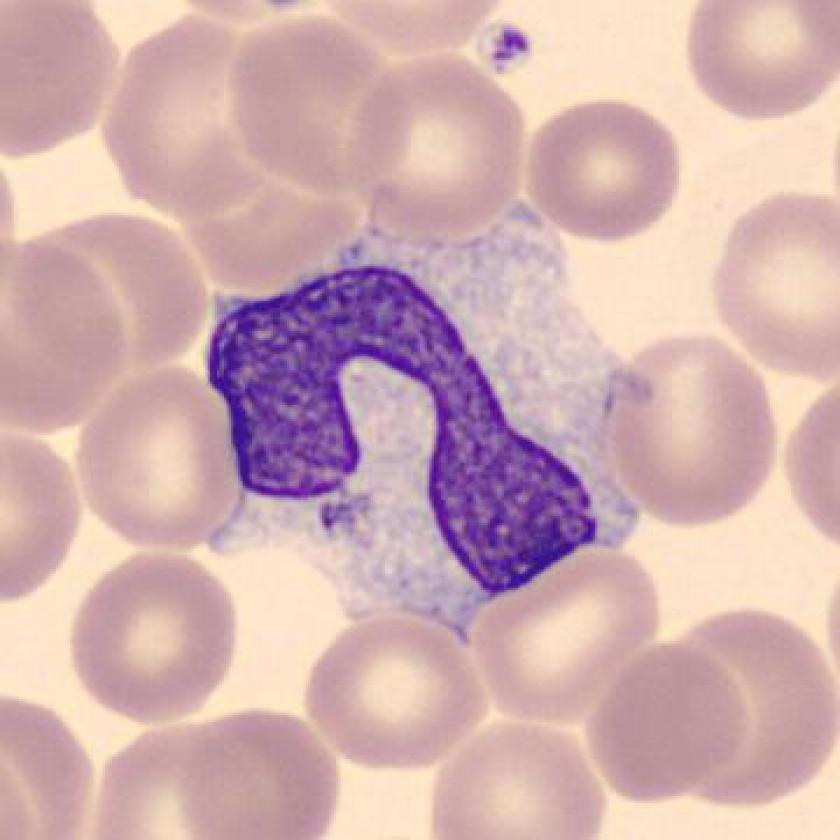monocyte: (188, 166, 668, 668)
